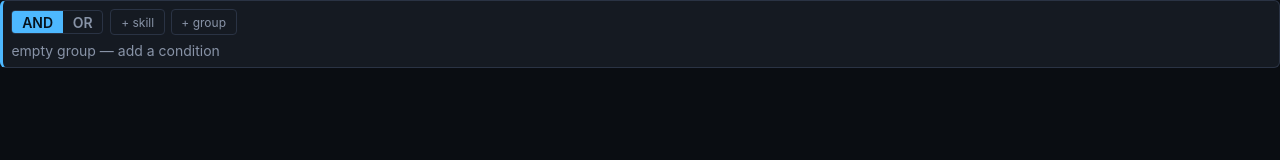
Test: GroupEditor › adds a skill condition and picks a skill from the dropdown
Click the button "+ skill". click: (138, 22)
box: [110, 9, 165, 35]
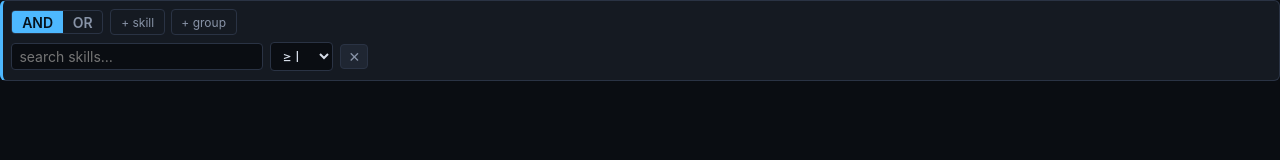
Type "capital" into the search field labelled "skill". click: (137, 56)
box: [11, 43, 263, 70]
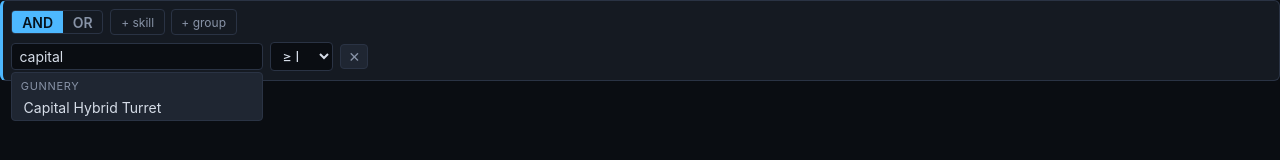
Click the button "Capital Hybrid Turret". click: (137, 108)
box: [12, 95, 262, 120]
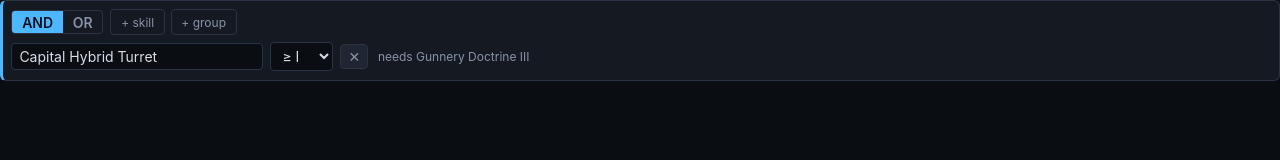
Result: the text "needs Gunnery Doctrine III" is shown at [375, 49, 529, 64]
